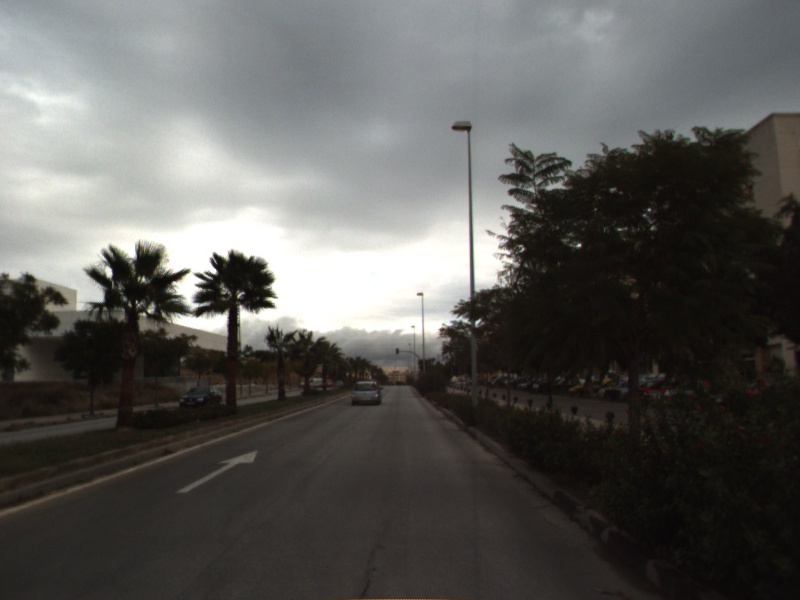STRAIGHT: (175, 448, 260, 495)
